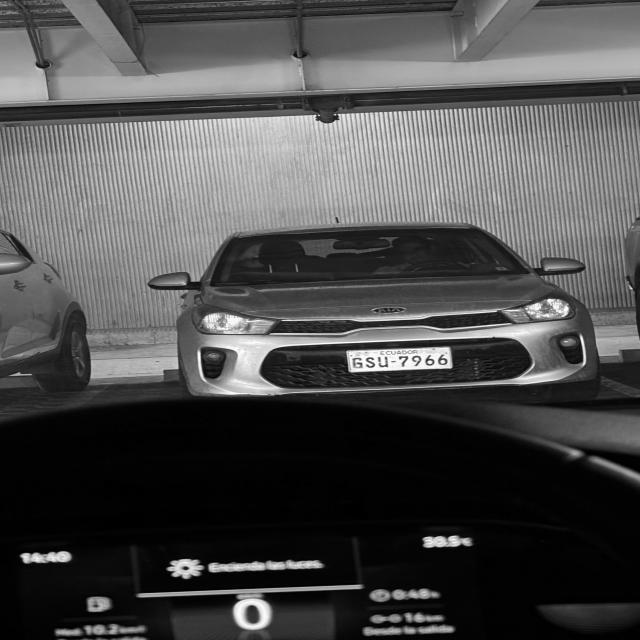Placa: (346, 348, 452, 372)
